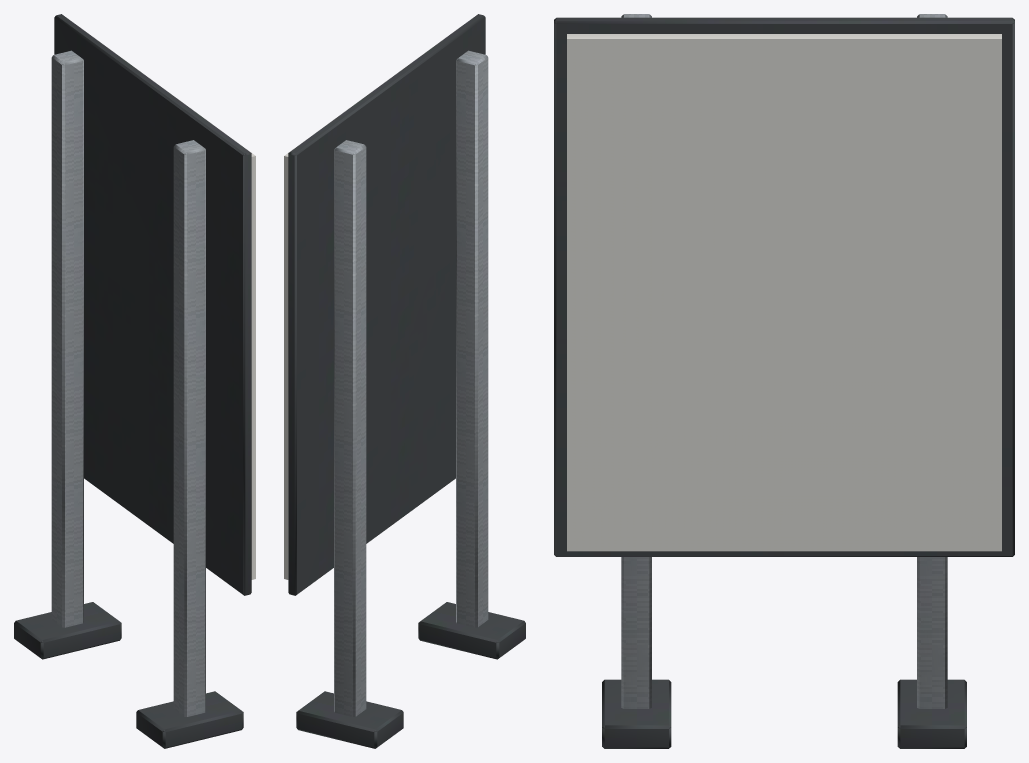
Rendered from braking-board_high.glb.
3 renders of one model, left to right at view 1: azimuth 30°, elevation 25°; view 2: azimuth 150°, elevation 25°; view 3: azimuth 270°, elevation 25°, orthographic. The views are drawn at different scales.
Parts seen in each view (by area): view 1: dark-steel, galvanised, board-face; view 2: dark-steel, galvanised, board-face; view 3: board-face, dark-steel, galvanised.
Part boxes in pixels (<box>): dark-steel: <box>14,14,251,748</box>; galvanised: <box>51,50,205,716</box>; board-face: <box>77,25,255,579</box>; dark-steel: <box>288,14,525,748</box>; galvanised: <box>334,50,488,716</box>; board-face: <box>284,25,462,579</box>; board-face: <box>567,34,1001,551</box>; dark-steel: <box>554,17,1014,748</box>; galvanised: <box>621,14,947,708</box>.
Bounding box in the file's own units: 0.26 × 1.83 × 1.06.
Materials: 3 (2 with a texture image).
